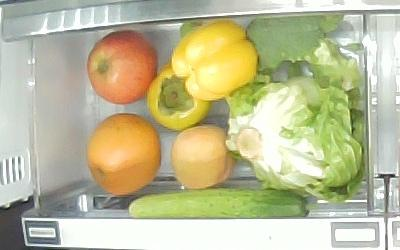apple: (87, 31, 159, 105)
broccoli: (247, 14, 363, 91)
cucumber: (129, 188, 316, 218)
grapefruit: (86, 113, 162, 196)
lettuce: (226, 77, 365, 203)
paprika: (171, 21, 258, 100)
peach: (170, 125, 236, 188)
persimmon: (147, 65, 211, 130)
